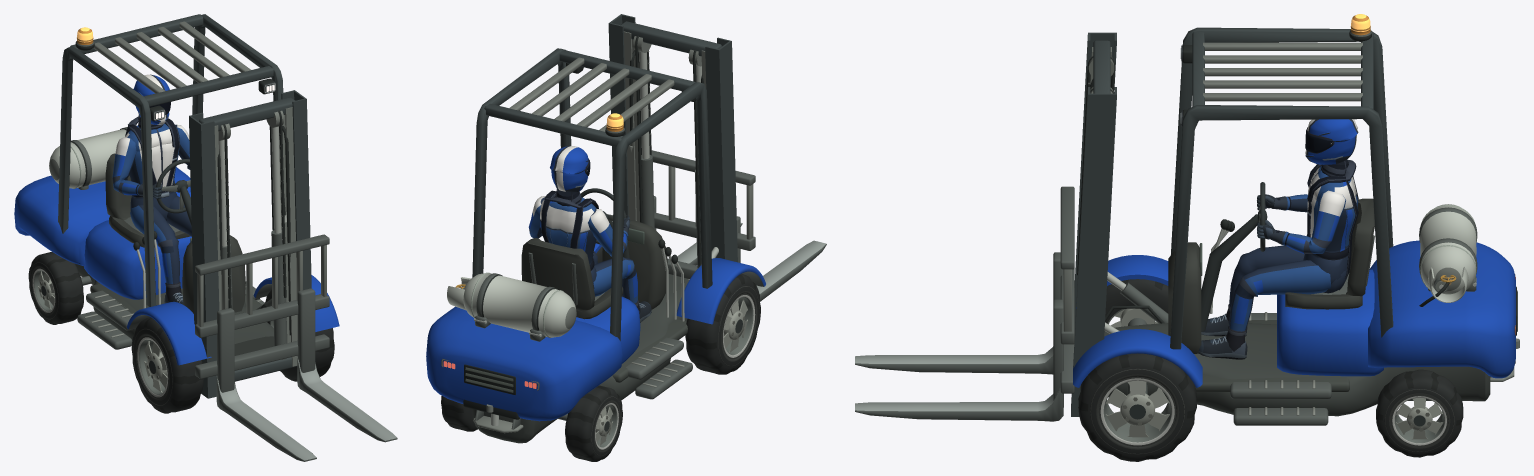
File: forklift_real.glb
3 views of the same model, side by side, from view 1: azimuth 30°, elevation 25°; view 2: azimuth 150°, elevation 25°; view 3: azimuth 270°, elevation 25° (orthographic). The views are drawn at different scales.
Parts seen in each view (by area): view 1: body, wheelRR, wheelFR, torso, wheelRL, steeringWheel, head; view 2: body, wheelRR, wheelFR, torso, head, wheelFL; view 3: body, wheelRL, wheelFL, torso, head, wheelRR.
Boxes of the visible parts, box(x1,y1,x2,y2) form: body: box(14, 14, 397, 461); wheelRR: box(131, 317, 203, 413); wheelFR: box(28, 252, 83, 324); torso: box(125, 115, 179, 220); wheelRL: box(265, 290, 334, 381); steeringWheel: box(156, 159, 190, 213); head: box(133, 74, 170, 124); body: box(426, 14, 826, 443); wheelRR: box(685, 274, 760, 374); wheelFR: box(565, 385, 622, 461); torso: box(540, 189, 598, 286); head: box(550, 146, 590, 192); wheelFL: box(441, 396, 477, 431); body: box(855, 14, 1519, 425); wheelRL: box(1078, 353, 1196, 461); wheelFL: box(1376, 369, 1463, 457); torso: box(1303, 159, 1358, 290); head: box(1305, 119, 1358, 164); wheelRR: box(1105, 279, 1168, 327).
Size of the model in its own units: 1.15 by 2.1 by 3.42.
